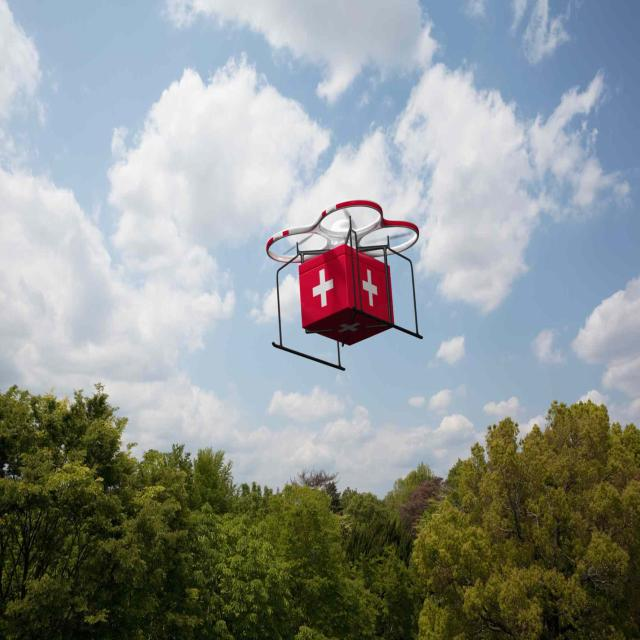drones: (258, 192, 431, 398)
